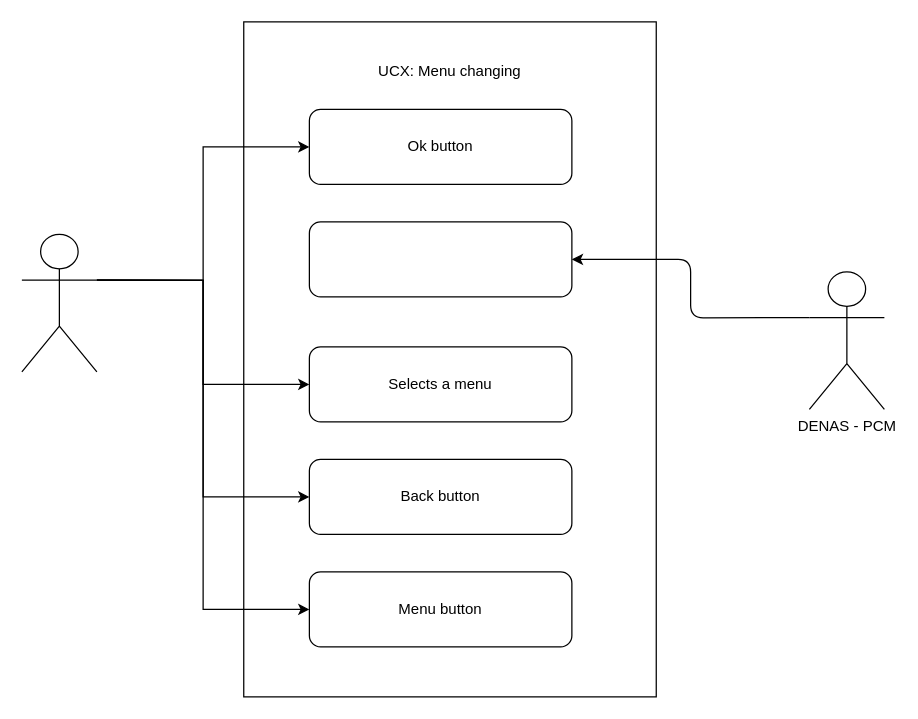
Image size: 918x719. Some labels were removed from this diagram. Here are the shapes that lost their labels. From the top down, the centre of each, then its label:
the point at 440,259: Device changes menu accordingly
the point at 59,302: User
